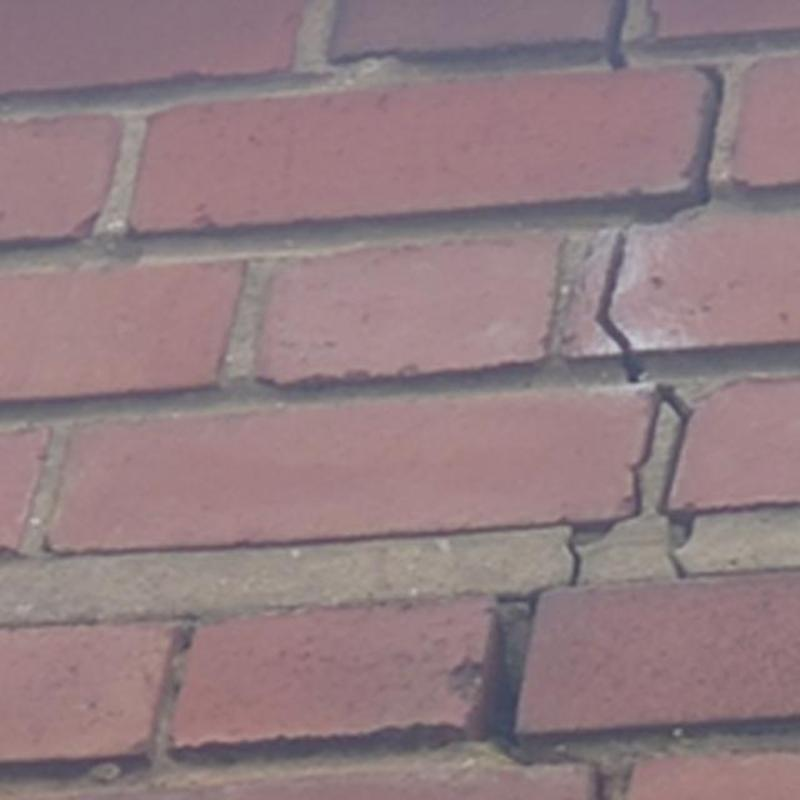crack: (595, 67, 723, 382), (570, 384, 695, 584), (497, 661, 610, 799), (491, 581, 550, 620), (605, 0, 628, 69)
